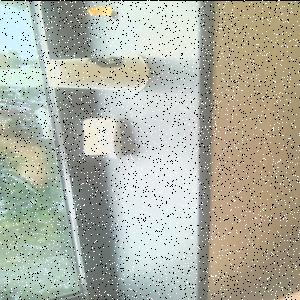Cup: (46, 54, 151, 94), (84, 118, 126, 159)
Trash: (84, 4, 118, 20)
